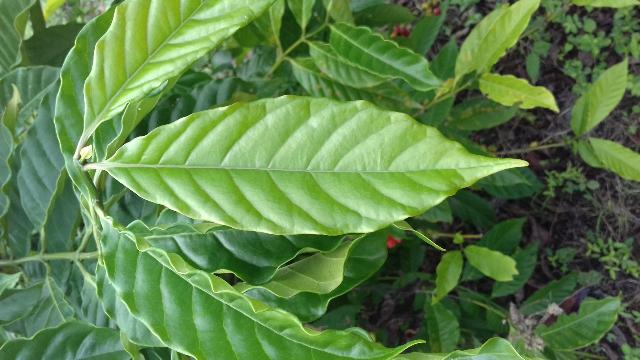healthy: (106, 98, 528, 234)
